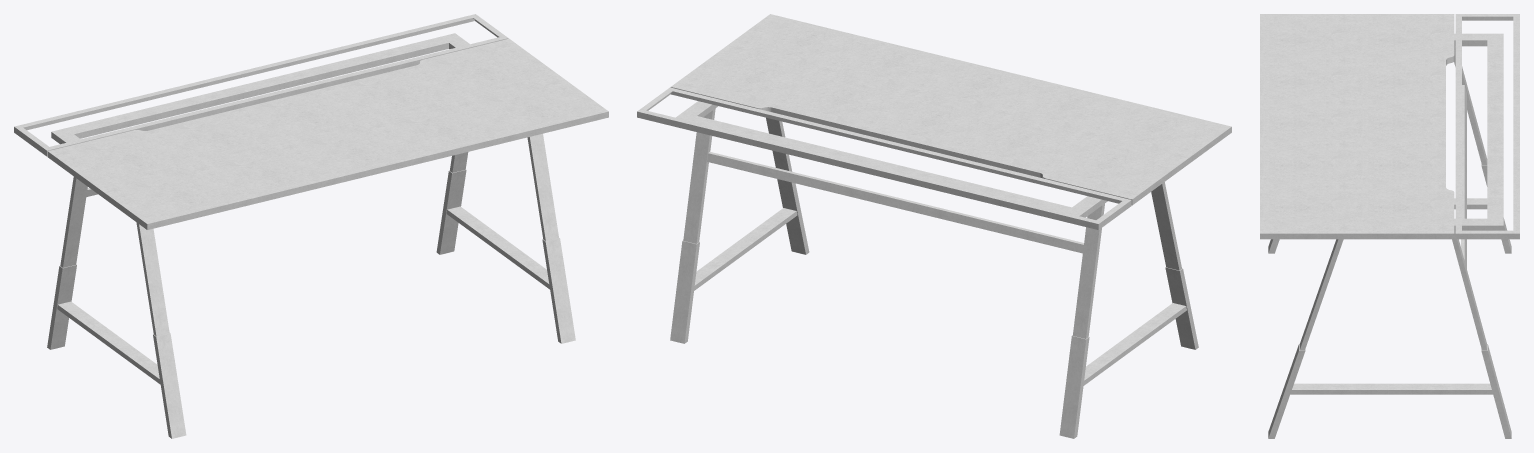
3 views of the same model, side by side, from view 1: azimuth 30°, elevation 25°; view 2: azimuth 150°, elevation 25°; view 3: azimuth 270°, elevation 25° (orthographic). The views are drawn at different scales.
Size of the model in its own units: 1.6 by 0.745 by 0.8.
1 material, 1 textured.
